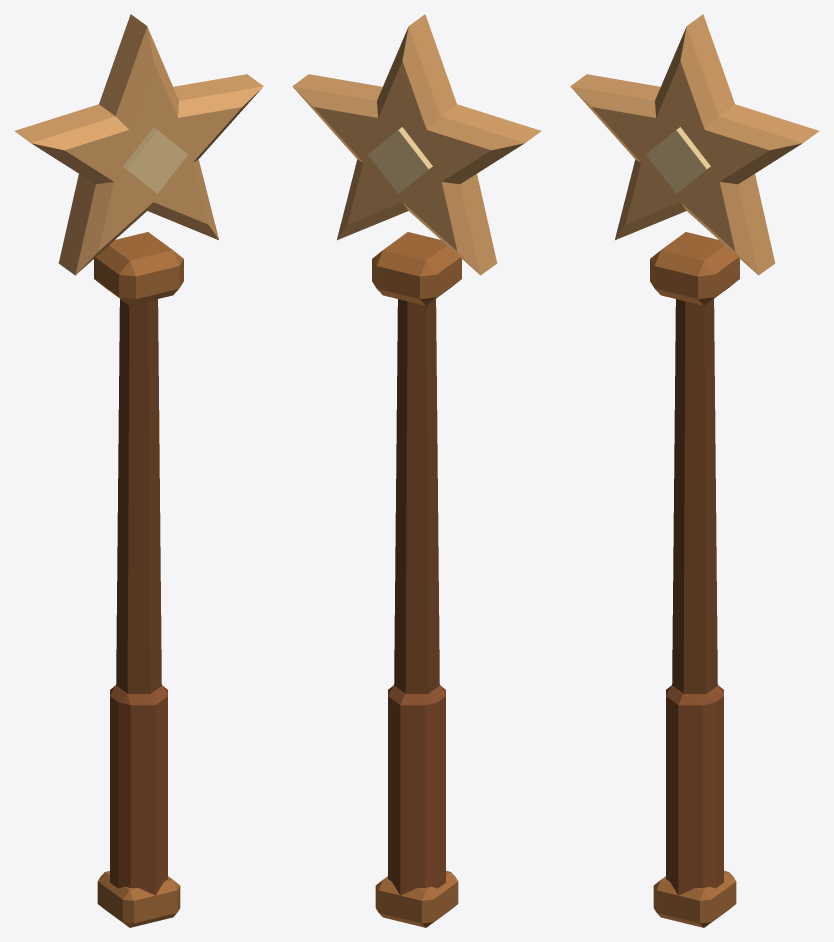
Rendered from WoodWand.fbx.
3 renders of one model, left to right at view 1: azimuth 30°, elevation 25°; view 2: azimuth 150°, elevation 25°; view 3: azimuth 330°, elevation 25°, orthographic.
Parts seen in each view (by area): view 1: WoodWand; view 2: WoodWand; view 3: WoodWand.
Part boxes in pixels (box(x1,y1,x2,y2)): WoodWand: box(14, 14, 263, 927); WoodWand: box(292, 14, 541, 927); WoodWand: box(570, 14, 819, 927).
Bounding box in the file's own units: 0.6467 × 2.37 × 0.18.
1 material, 1 textured.
